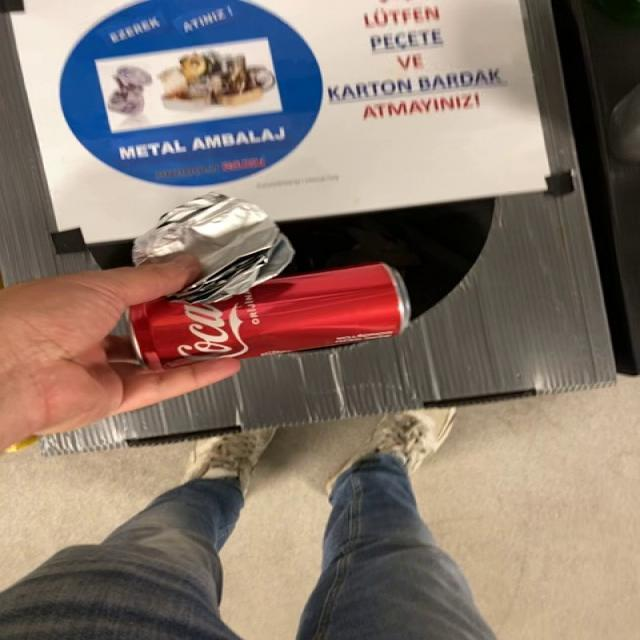Bin: (1, 14, 97, 284)
Metal: (129, 263, 411, 370)
